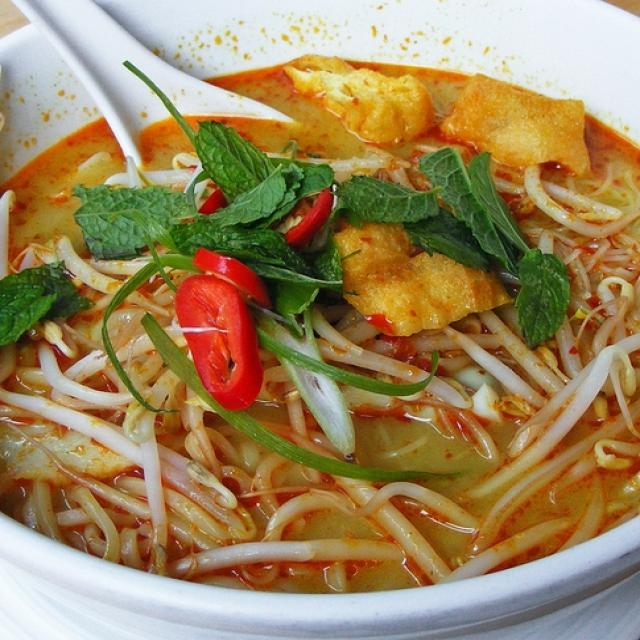面条主食: (13, 36, 623, 615)
